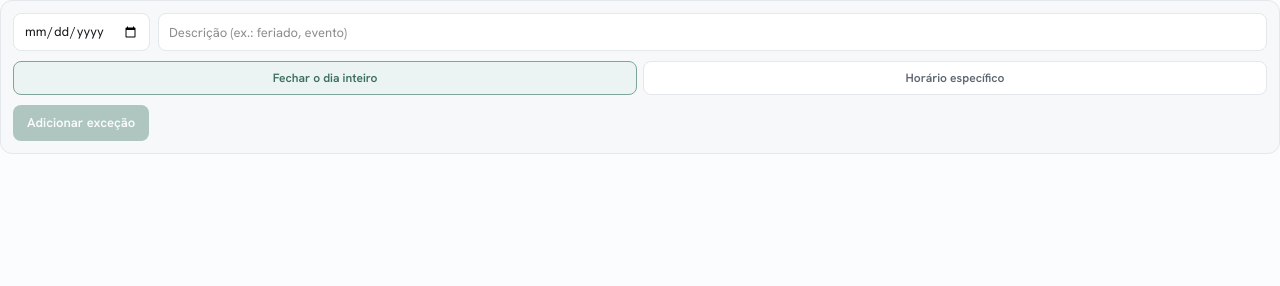
Test case: ExceptionForm › "Adicionar" trava quando o período do "Horário específico" é inválido
The image size is (1280, 286).
# data preenchida + horário específico: período default (08:00–12:00) é válido → habilitado.
Type "2026-12-25" into the date field named "Data da exceção" at (82, 32), box [13,13,150,51]
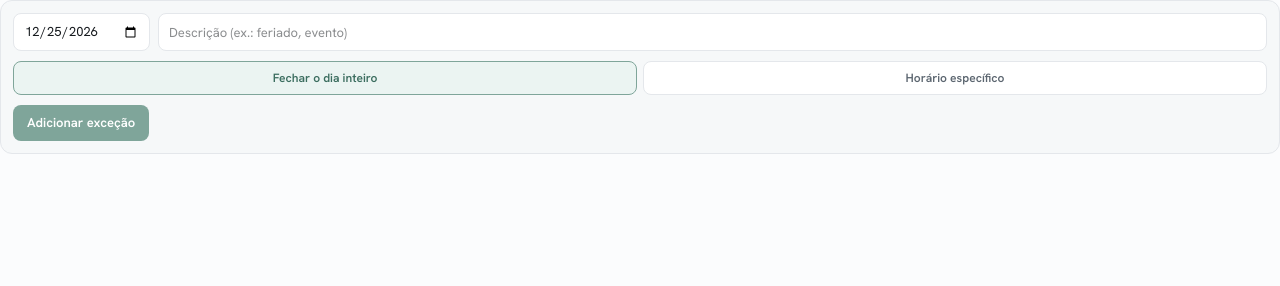
Click the button "Horário específico" at (955, 78), box [643,61,1267,95]
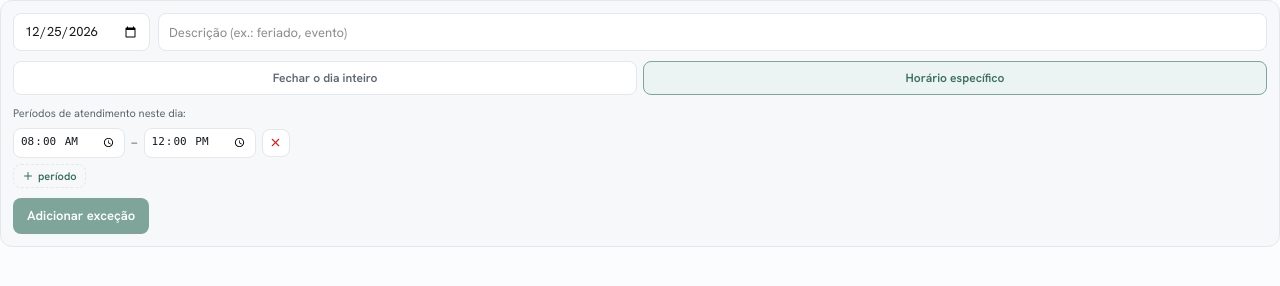
Expected: the button "Adicionar exceção" is enabled, [13,198,149,234]
# fim antes do início torna o período inválido → o Adicionar trava (não deixa mandar 422).
Replace the text in the time field named "Fim do período 1" with "07:00" at (200, 142), box [144,128,256,158]
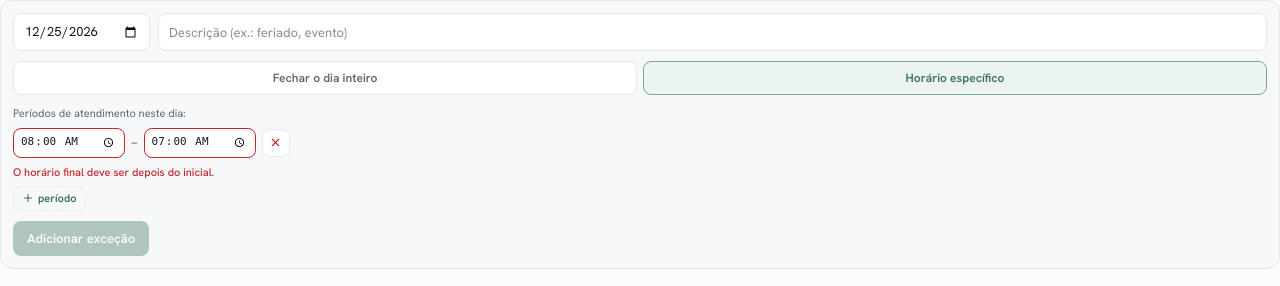
Expected: the button "Adicionar exceção" is disabled, [13,220,149,256]
